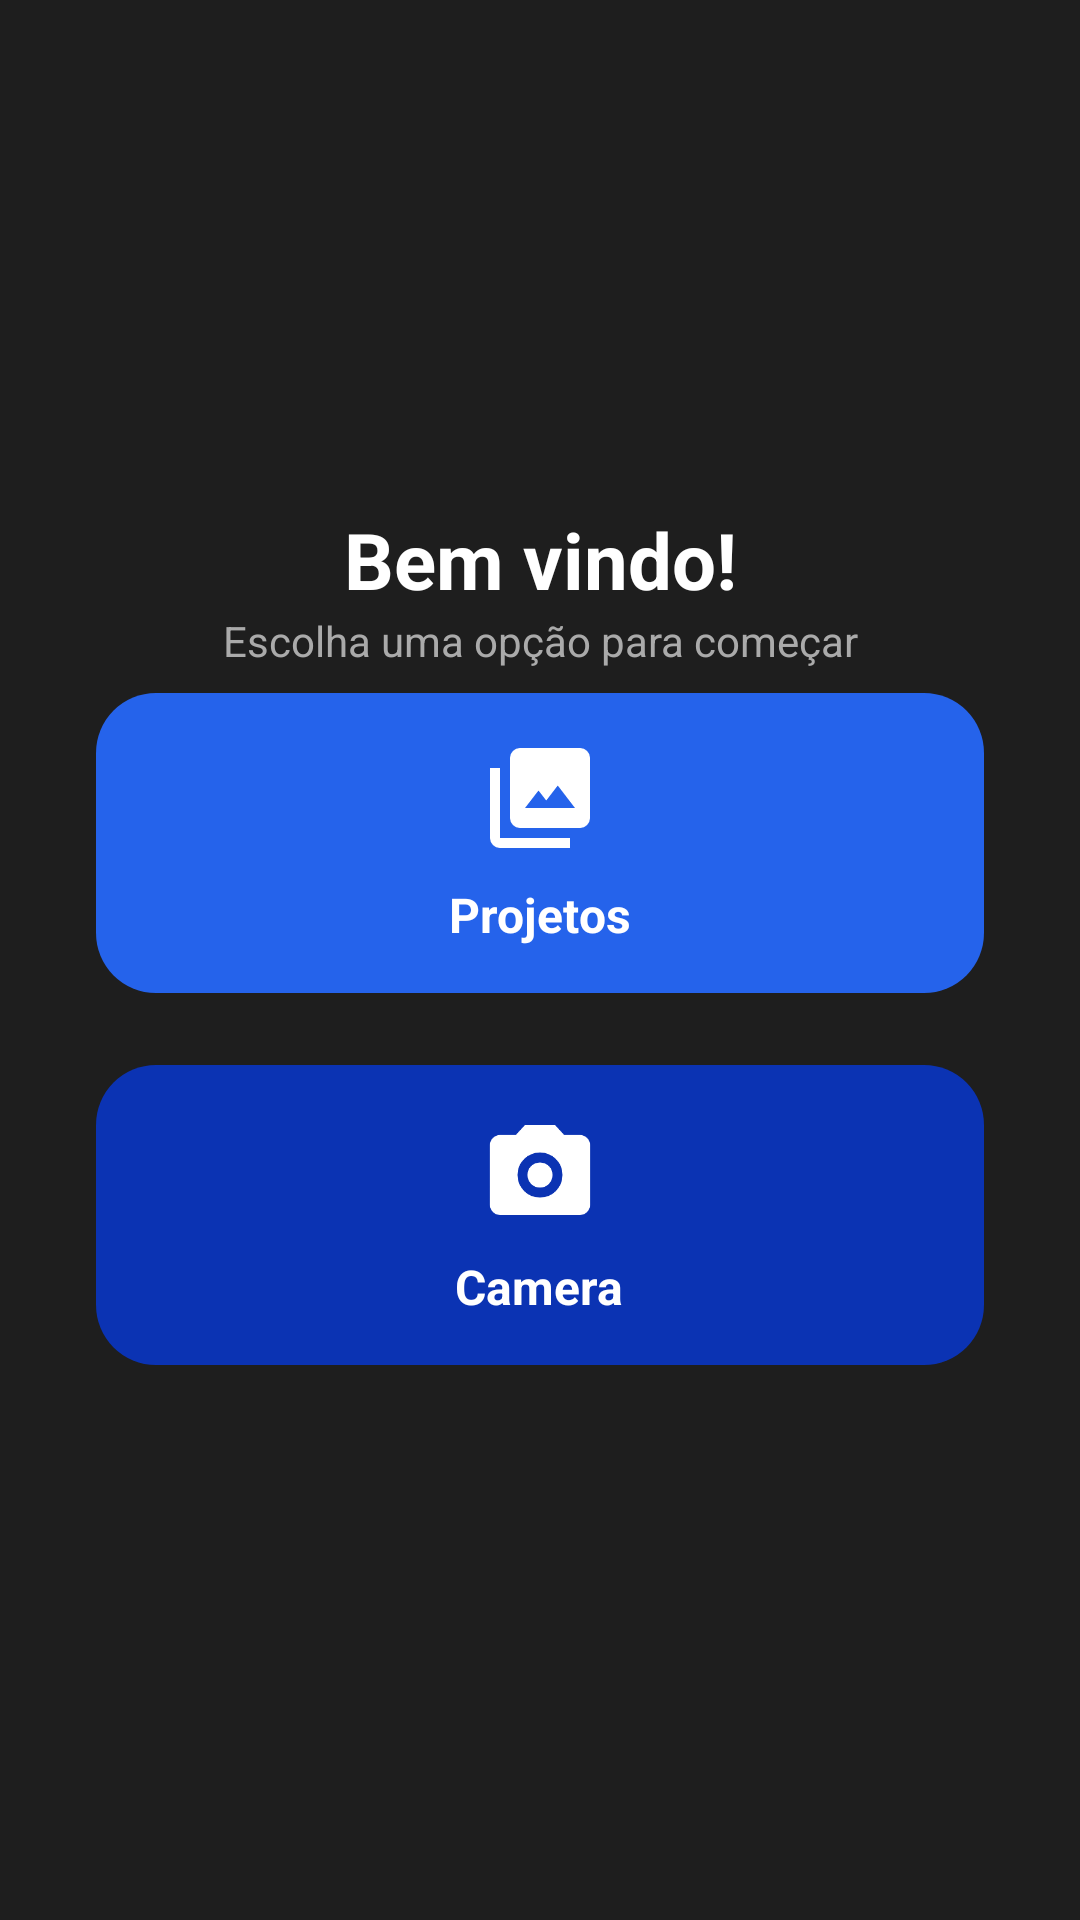

Icons on this 1080x1920 Android screen, each with the point to tap as (x,y):
gallery: (540,798)
